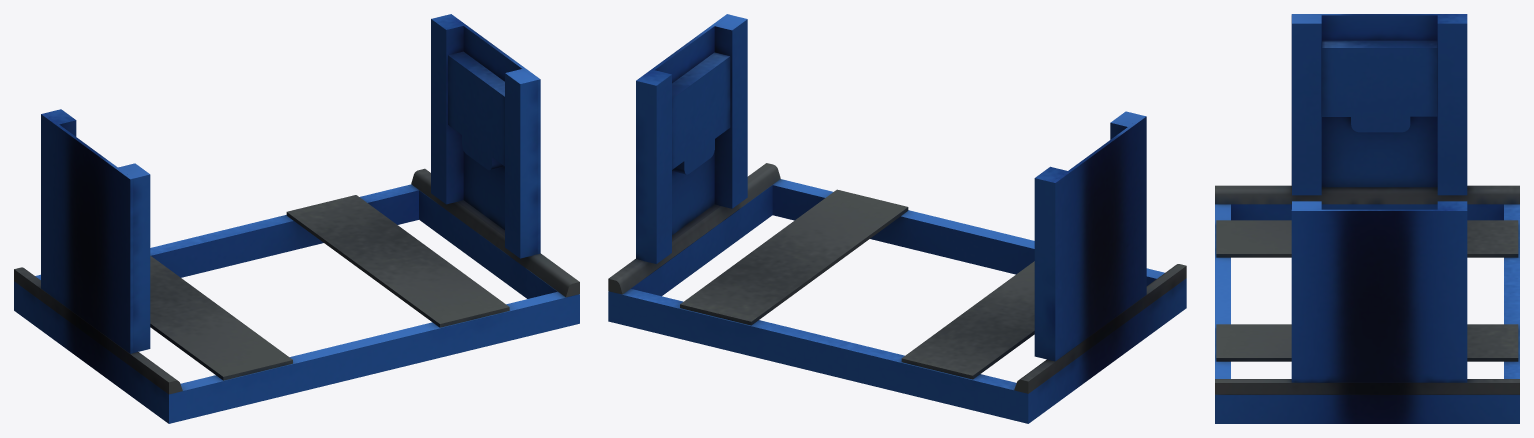
Rendered from machine.serva.157.obj.
3 views of the same model, side by side, from view 1: azimuth 30°, elevation 25°; view 2: azimuth 150°, elevation 25°; view 3: azimuth 270°, elevation 25° (orthographic). The views are drawn at different scales.
Visible parts, largest first — view 1: ____01; view 2: ____01; view 3: ____01.
Part boxes in pixels (x1,y1,x2,y2): ____01: (14, 14, 579, 423); ____01: (608, 14, 1186, 423); ____01: (1215, 14, 1519, 423).
Size of the model in its own units: 146 by 73.35 by 95.27.
